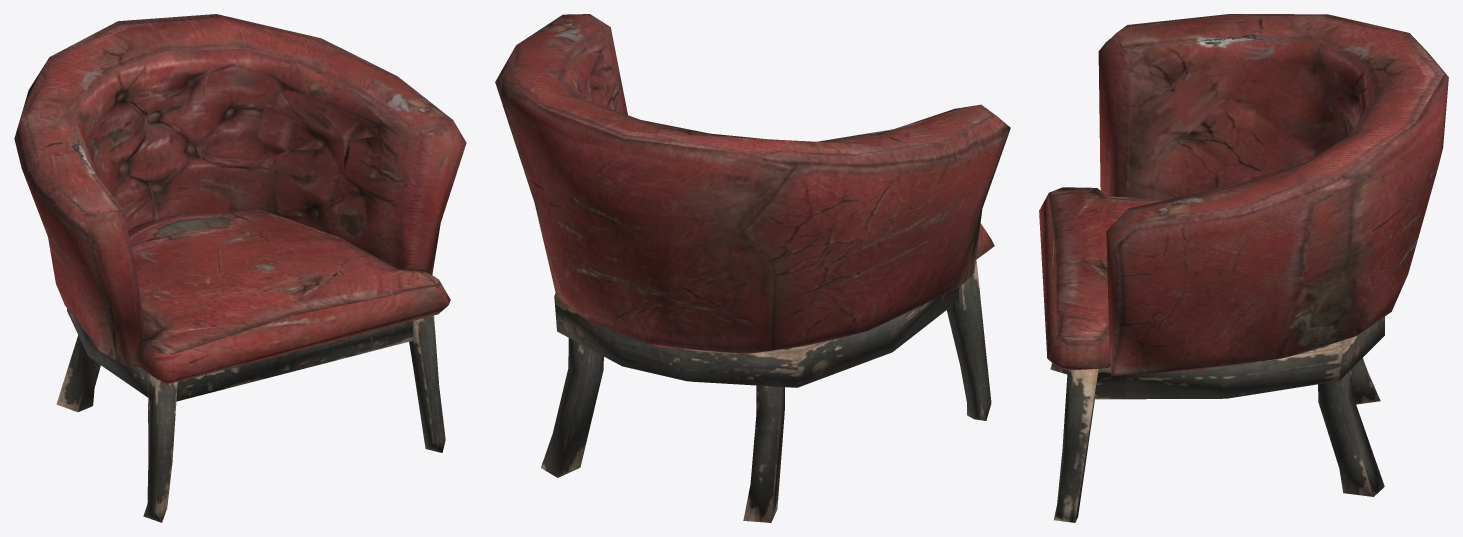
The model's file is SingleCouch.fbx.
The picture shows the model from 3 angles, left to right: view 1: azimuth 30°, elevation 25°; view 2: azimuth 150°, elevation 25°; view 3: azimuth 270°, elevation 25°; orthographic projection. The views are drawn at different scales.
Visible parts, largest first — view 1: ChairShape; view 2: ChairShape; view 3: ChairShape.
Part boxes in pixels (<box>): ChairShape: <box>14,14,466,522</box>; ChairShape: <box>495,14,1010,522</box>; ChairShape: <box>1039,14,1448,522</box>.
Bounding box in the file's own units: 110 × 90 × 90.74.
1 material, 1 textured.
